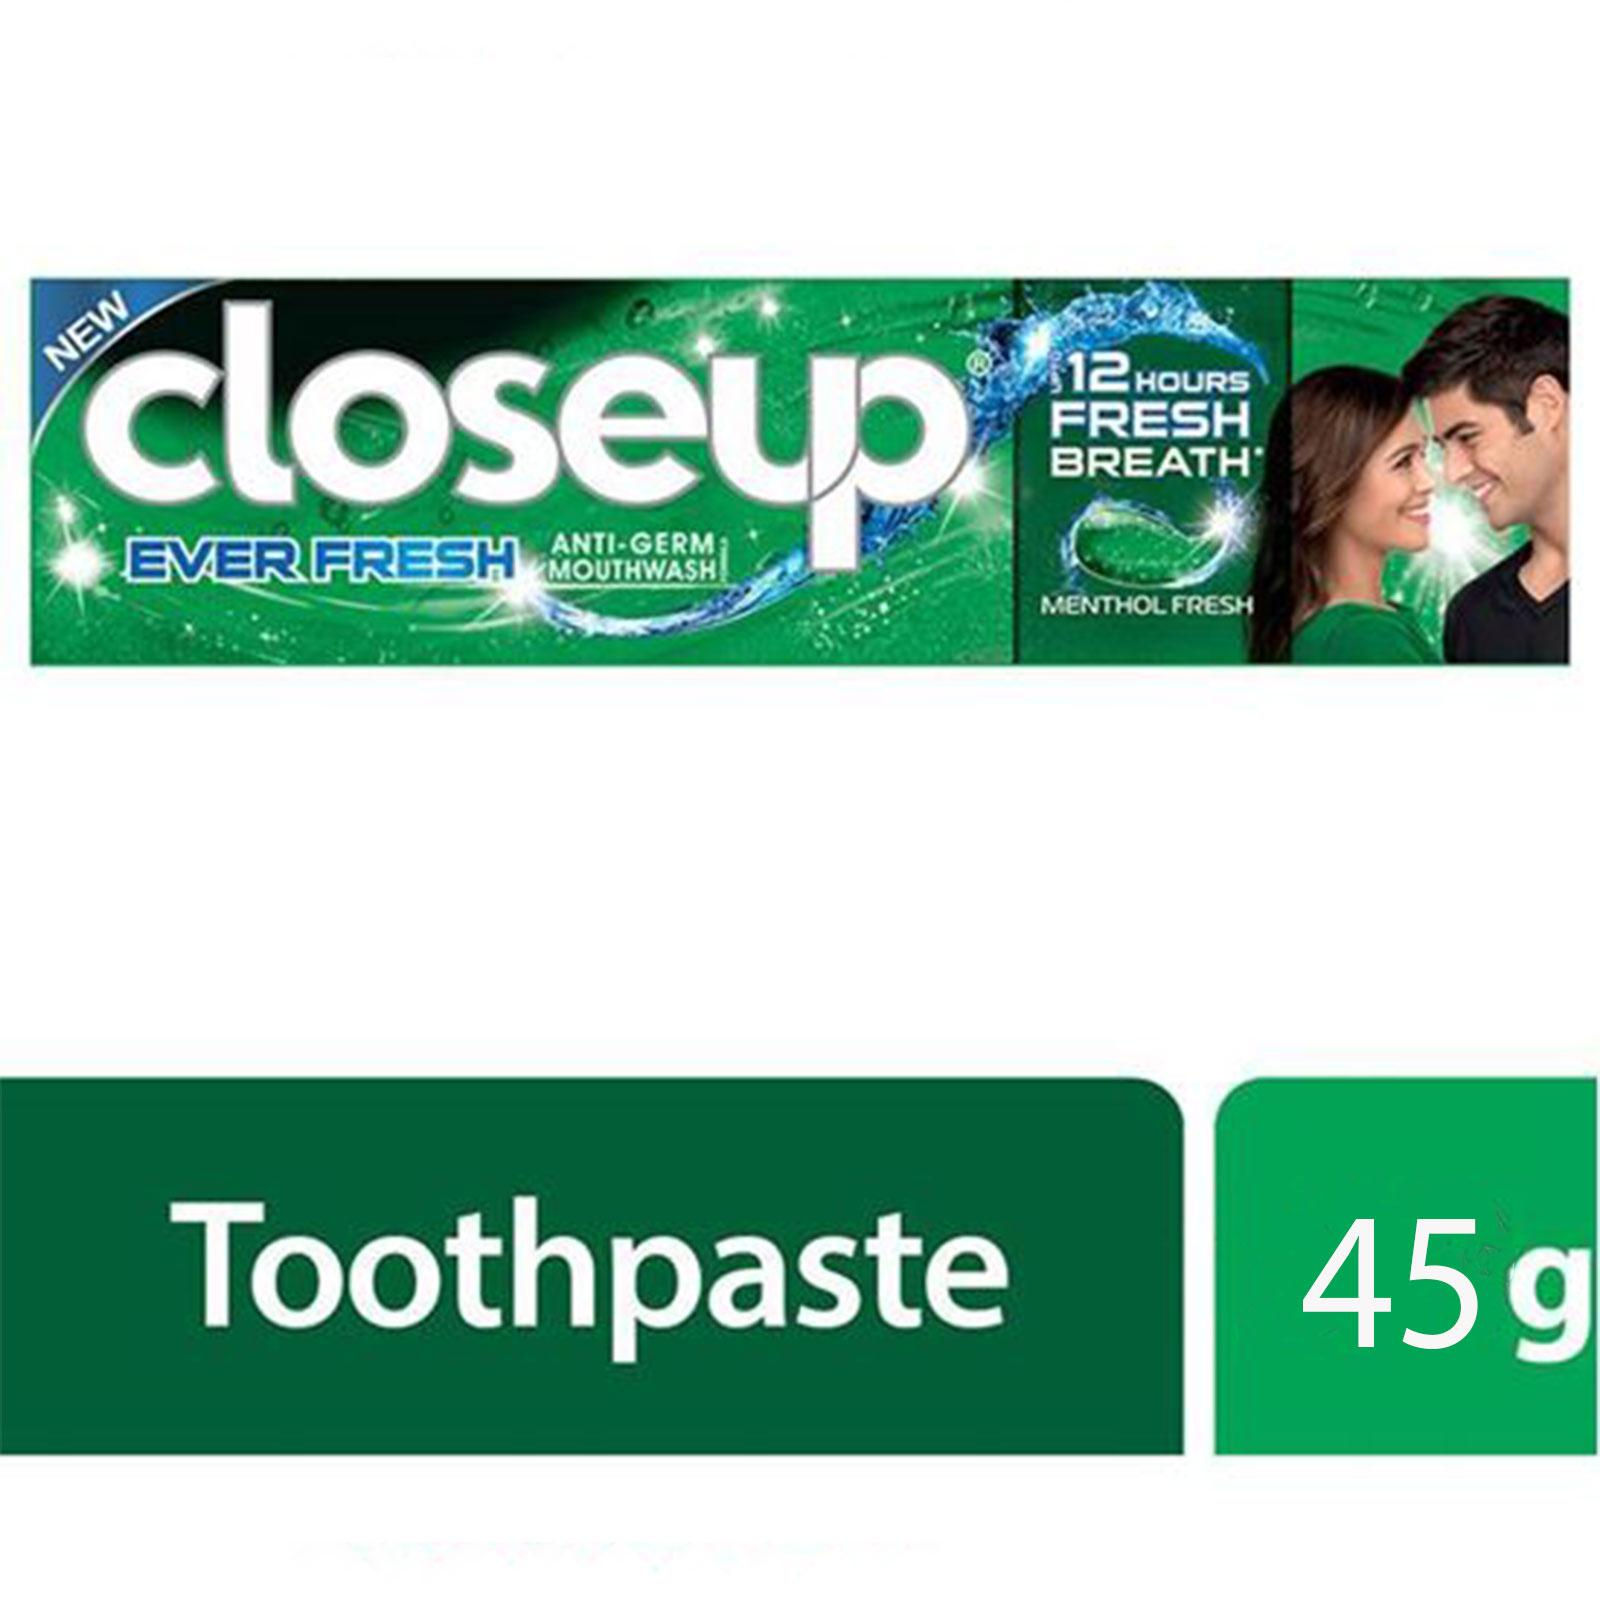CloseUp: (31, 277, 1575, 667)
